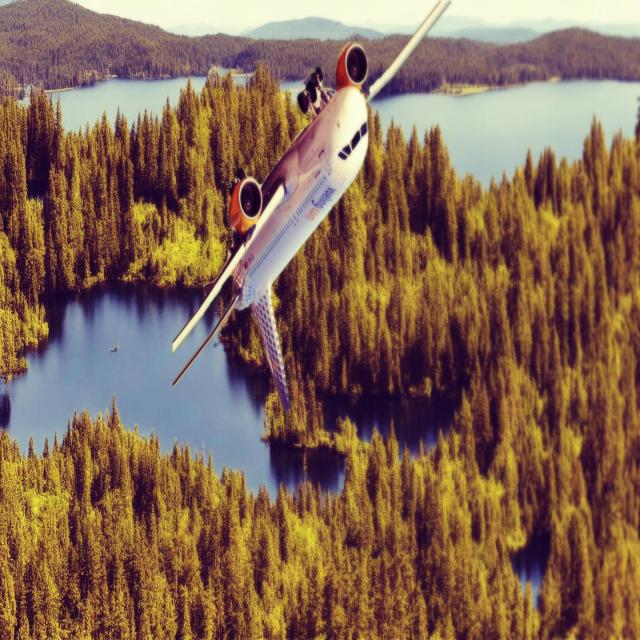airplane: (171, 0, 451, 414)
